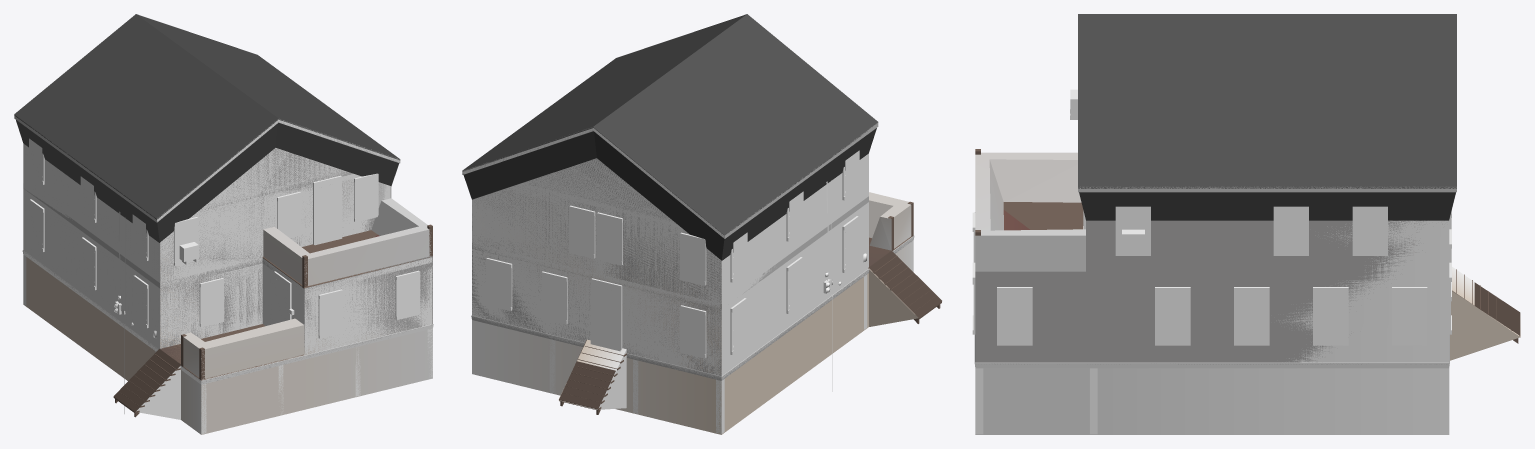
The model's file is eca_bld_house_03_a.dae.
The picture shows the model from 3 angles, left to right: view 1: azimuth 30°, elevation 25°; view 2: azimuth 150°, elevation 25°; view 3: azimuth 270°, elevation 25°; orthographic projection. The views are drawn at different scales.
Visible parts, largest first — view 1: eca_bld_house_03_a_a600, Colmesh-1, eca_bld_house_03_a_a100, eca_bld_house_03_a_a20; view 2: eca_bld_house_03_a_a600, Colmesh-1, eca_bld_house_03_a_a100, eca_bld_house_03_a_a20; view 3: eca_bld_house_03_a_a600, Colmesh-1, eca_bld_house_03_a_a20, eca_bld_house_03_a_a100.
Part boxes in pixels (x1,y1,x2,y2): eca_bld_house_03_a_a600: (14, 14, 433, 434); Colmesh-1: (16, 120, 432, 434); eca_bld_house_03_a_a100: (14, 116, 432, 411); eca_bld_house_03_a_a20: (160, 148, 432, 363); eca_bld_house_03_a_a600: (462, 14, 941, 433); Colmesh-1: (463, 128, 918, 434); eca_bld_house_03_a_a100: (462, 123, 941, 408); eca_bld_house_03_a_a20: (472, 158, 890, 375); eca_bld_house_03_a_a600: (972, 14, 1520, 434); Colmesh-1: (975, 152, 1520, 434); eca_bld_house_03_a_a20: (975, 210, 1442, 362); eca_bld_house_03_a_a100: (975, 151, 1520, 364).
Size of the model in its own units: 11.2 by 13.91 by 10.95.
